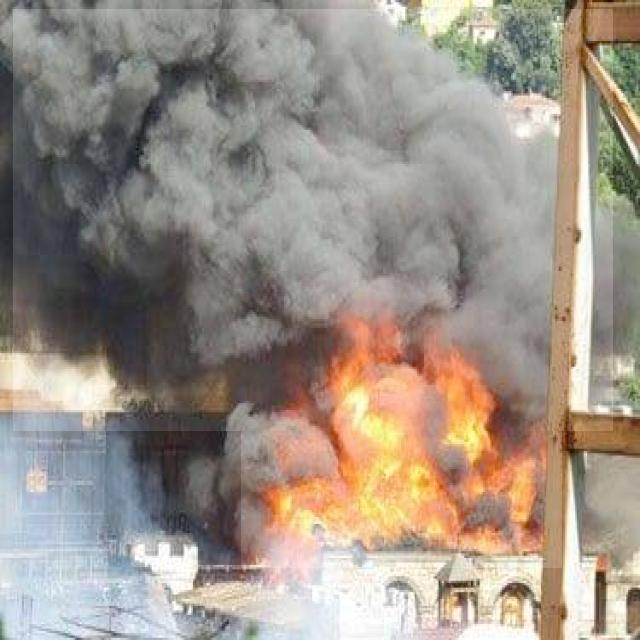Fire: (241, 320, 562, 568)
Smoke: (14, 9, 614, 431)
